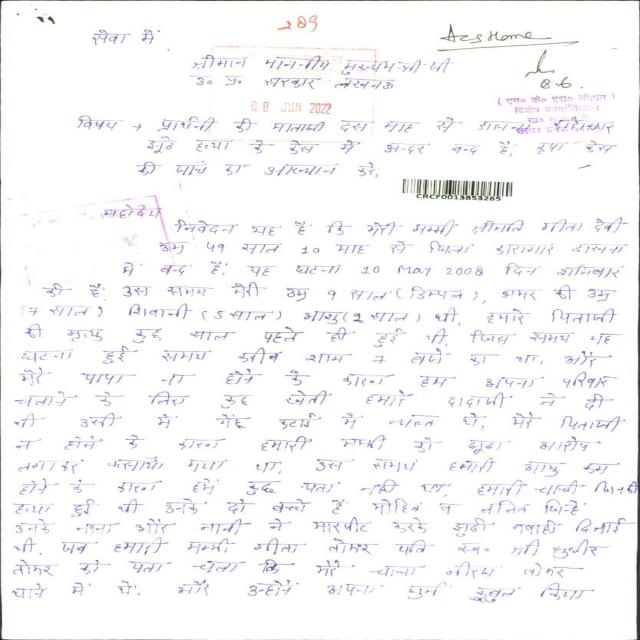barcode: (387, 176, 533, 207)
